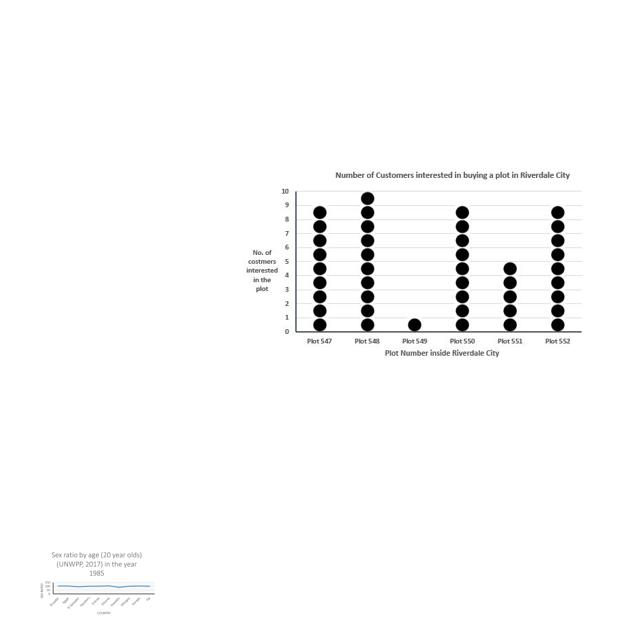Graph: (238, 167, 583, 368), (36, 548, 157, 617)
